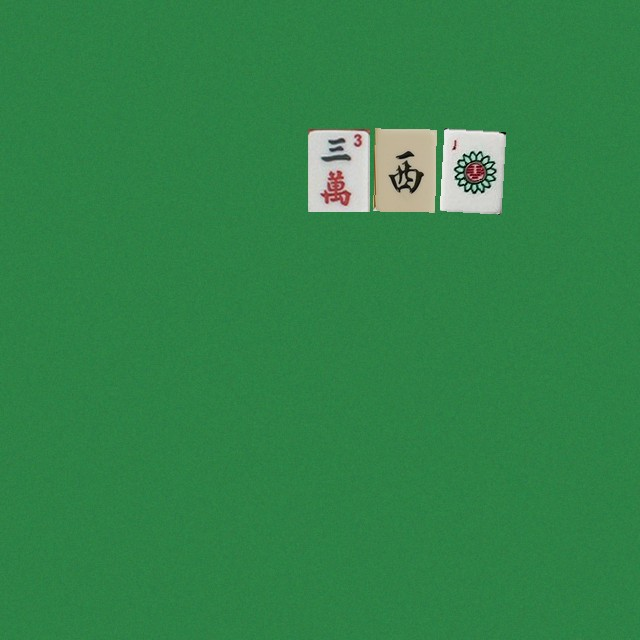tile: (307, 128, 369, 211), (373, 128, 435, 211), (439, 128, 501, 211)
